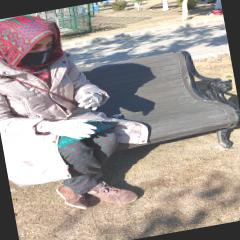gloved: (48, 116, 98, 144), (76, 88, 102, 112)
